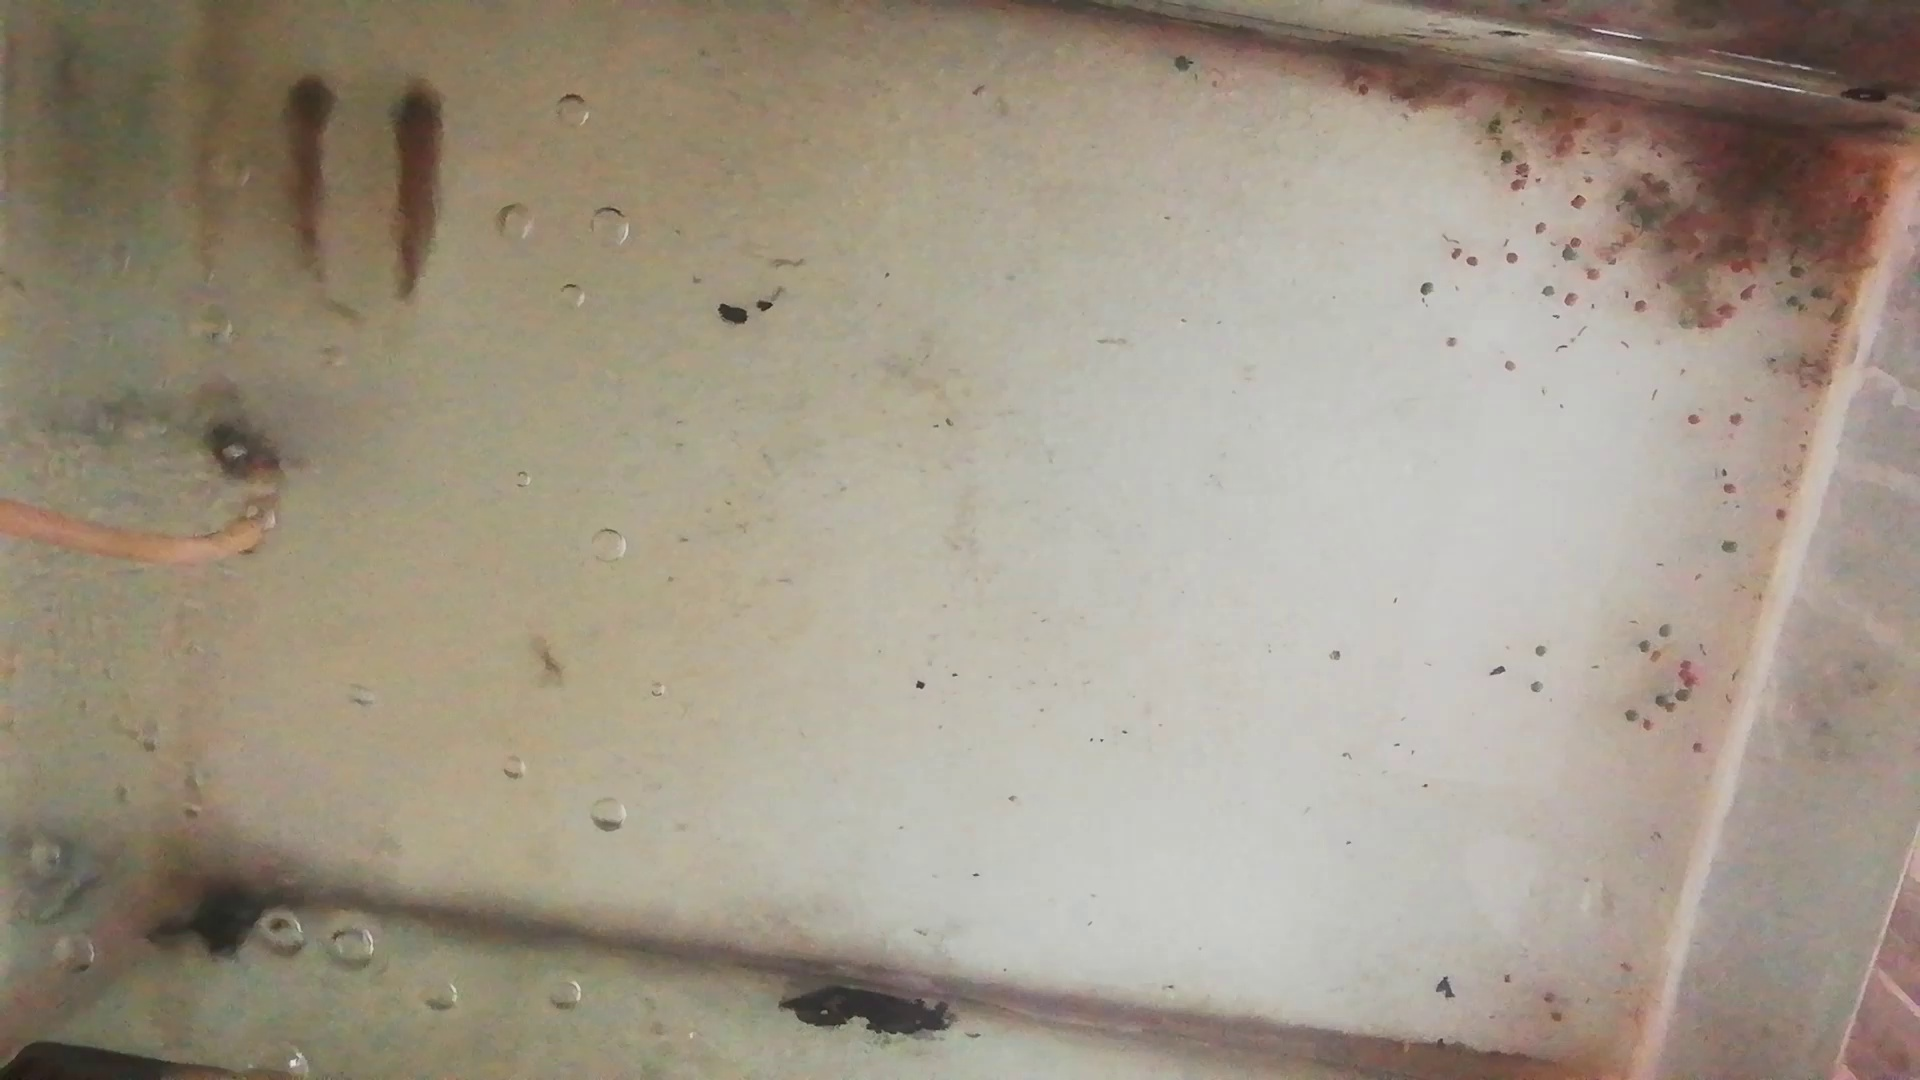fish: (385, 69, 452, 319), (278, 73, 336, 291)
